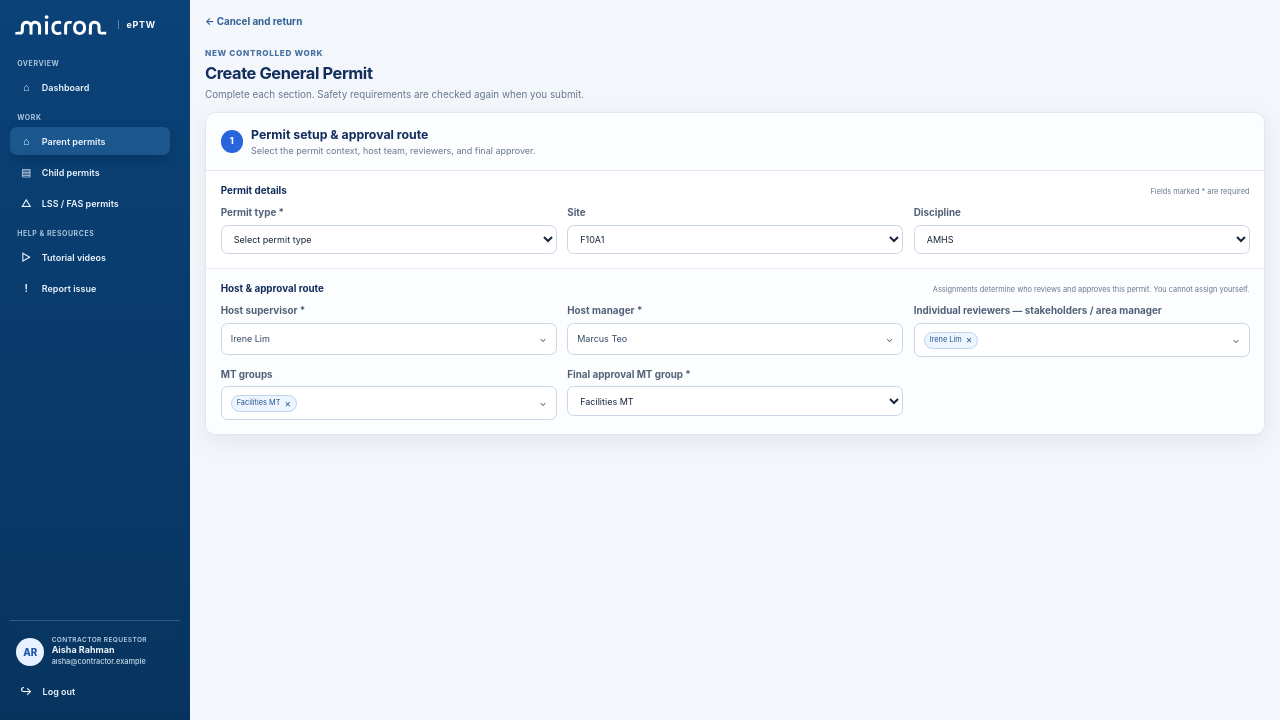
Test: application shell › searches only Micron Staff for host supervisor and host manager
Click the heading named "Host supervisor *" at [250, 338], box [221,323,556,355]
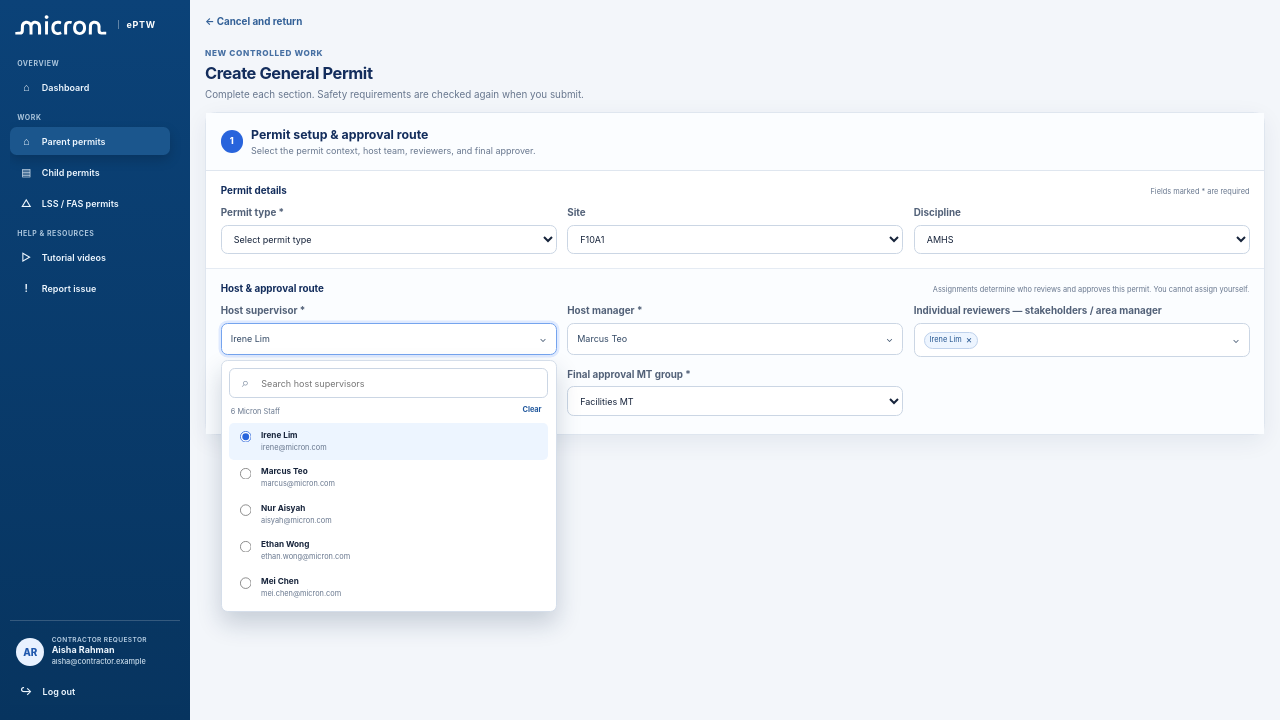
Type "Marcus" into the field named "Search host supervisors" at [389, 383], box [229,368,548,398]
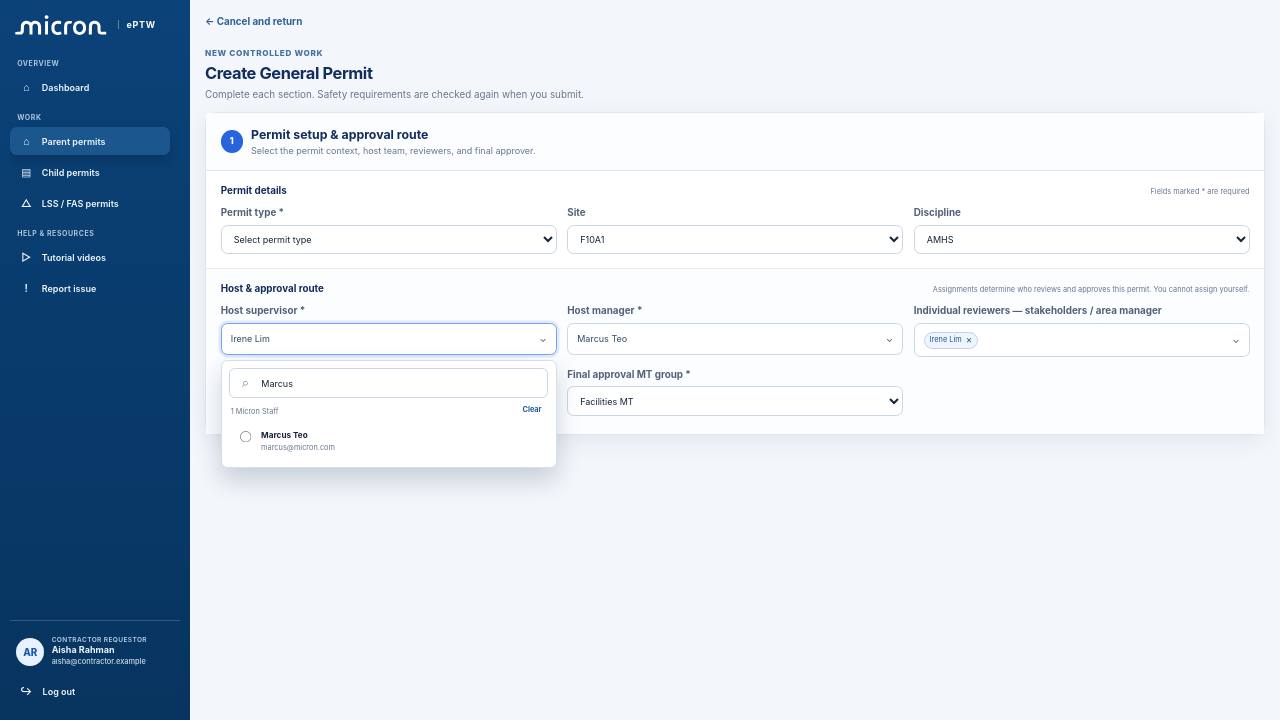
Result: the text "Marcus Teo" below "Micron Staff" is shown at [261,430,308,440]
